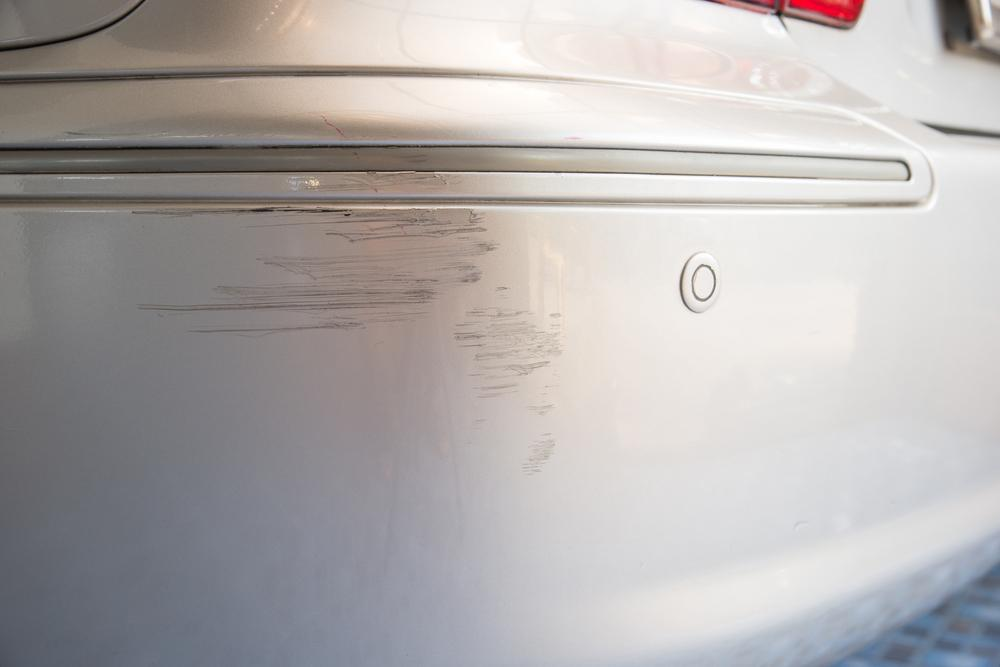scratch: (122, 154, 564, 480)
